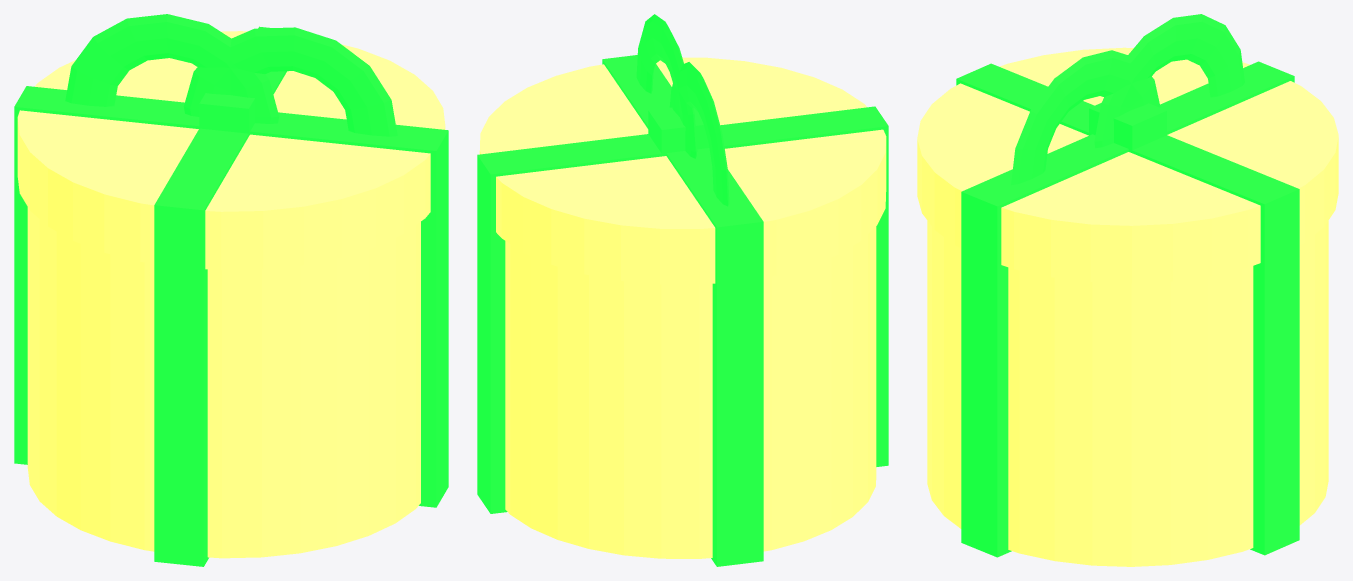
Rendered from Tmpl_Round_Root_212.glb.
3 renders of one model, left to right at view 1: azimuth 30°, elevation 25°; view 2: azimuth 150°, elevation 25°; view 3: azimuth 270°, elevation 25°, orthographic. The views are drawn at different scales.
Visible parts, largest first — view 1: Tmpl_Round_Base.210, Tmpl_Round_Lid.210, Tmpl_Round_Ribbon_Y.210, Tmpl_Round_Ribbon_X.210, Tmpl_Round_BowL.210, Tmpl_Round_BowR.210, Tmpl_Round_BowKnot.210; view 2: Tmpl_Round_Base.210, Tmpl_Round_Lid.210, Tmpl_Round_Ribbon_X.210, Tmpl_Round_Ribbon_Y.210, Tmpl_Round_BowR.210, Tmpl_Round_BowL.210, Tmpl_Round_BowKnot.210; view 3: Tmpl_Round_Base.210, Tmpl_Round_Lid.210, Tmpl_Round_Ribbon_X.210, Tmpl_Round_Ribbon_Y.210, Tmpl_Round_BowL.210, Tmpl_Round_BowR.210, Tmpl_Round_BowKnot.210.
Part boxes in pixels (x1,y1,x2,y2): Tmpl_Round_Base.210: [27, 207, 420, 558]; Tmpl_Round_Lid.210: [17, 31, 445, 270]; Tmpl_Round_Ribbon_Y.210: [154, 26, 286, 566]; Tmpl_Round_Ribbon_X.210: [14, 86, 448, 507]; Tmpl_Round_BowL.210: [65, 14, 279, 123]; Tmpl_Round_BowR.210: [183, 27, 397, 136]; Tmpl_Round_BowKnot.210: [199, 93, 254, 135]; Tmpl_Round_Base.210: [505, 226, 876, 558]; Tmpl_Round_Lid.210: [479, 57, 886, 284]; Tmpl_Round_Ribbon_X.210: [602, 55, 763, 566]; Tmpl_Round_Ribbon_Y.210: [477, 106, 888, 513]; Tmpl_Round_BowR.210: [636, 14, 697, 158]; Tmpl_Round_BowL.210: [669, 62, 729, 206]; Tmpl_Round_BowKnot.210: [648, 107, 709, 156]; Tmpl_Round_Base.210: [927, 221, 1328, 566]; Tmpl_Round_Lid.210: [917, 47, 1338, 283]; Tmpl_Round_Ribbon_X.210: [961, 61, 1294, 557]; Tmpl_Round_Ribbon_Y.210: [956, 63, 1299, 555]; Tmpl_Round_BowL.210: [1094, 14, 1244, 148]; Tmpl_Round_BowR.210: [1011, 50, 1160, 185]; Tmpl_Round_BowKnot.210: [1089, 103, 1166, 151].
Bounding box in the file's own units: 0.8468 × 0.9916 × 0.8468.
